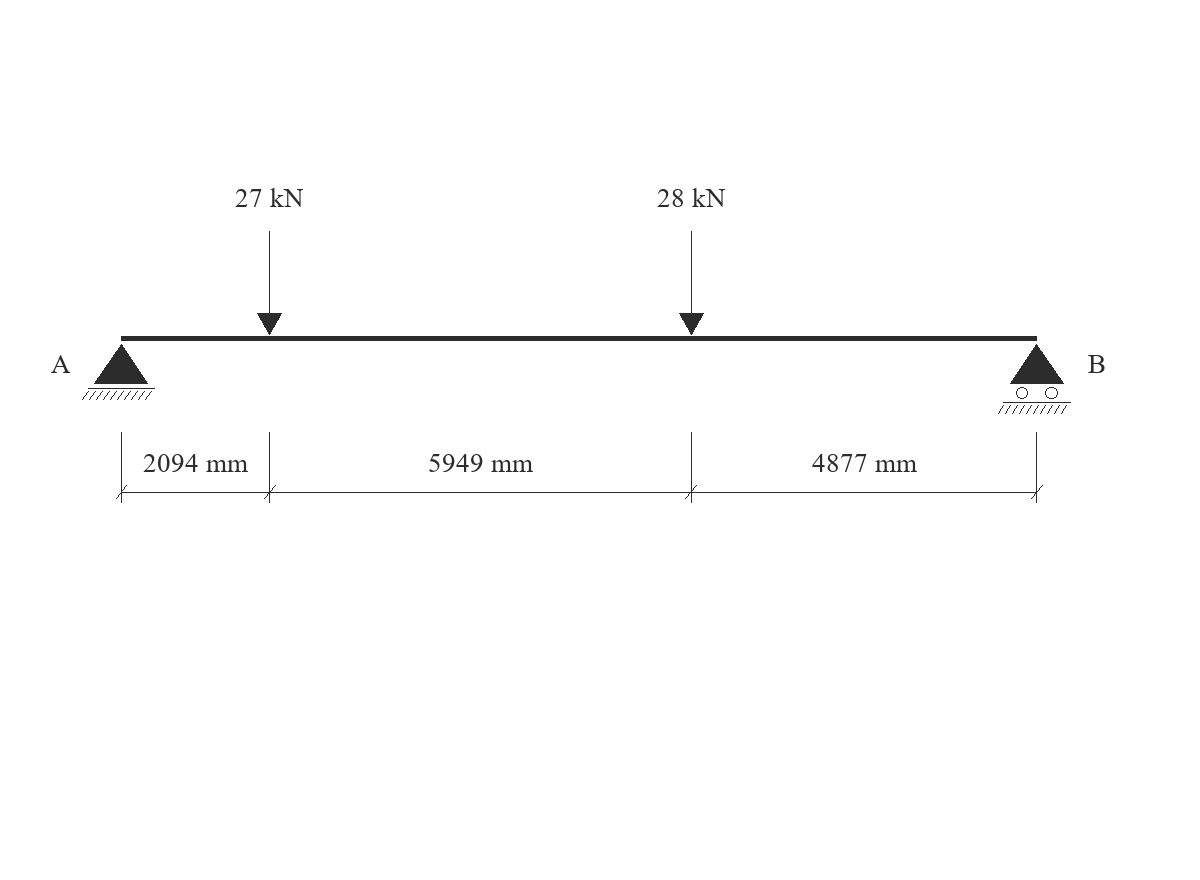pin_support: (82, 344, 155, 400)
point_load: (257, 231, 282, 335), (679, 231, 704, 335)
roller_support: (998, 344, 1071, 414)
